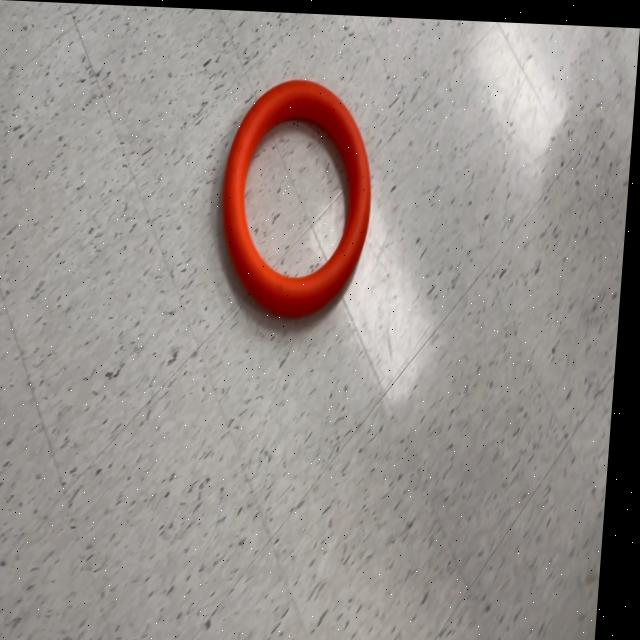note: (216, 70, 382, 323)
